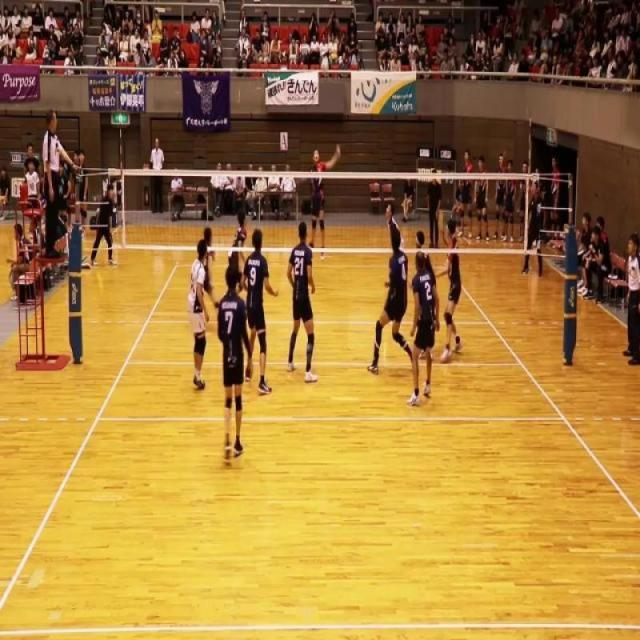volleyball: (313, 148, 319, 168)
